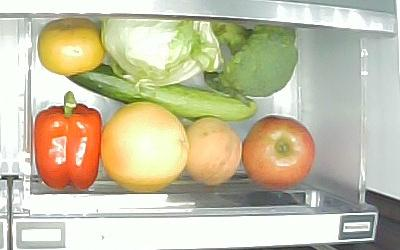apple: (243, 114, 315, 189)
broccoli: (202, 21, 300, 99)
cucumber: (65, 62, 257, 121)
grapefruit: (102, 102, 189, 195)
lettuce: (102, 19, 223, 82)
paprika: (33, 90, 102, 192)
peach: (180, 116, 241, 188)
persimmon: (38, 19, 105, 76)
